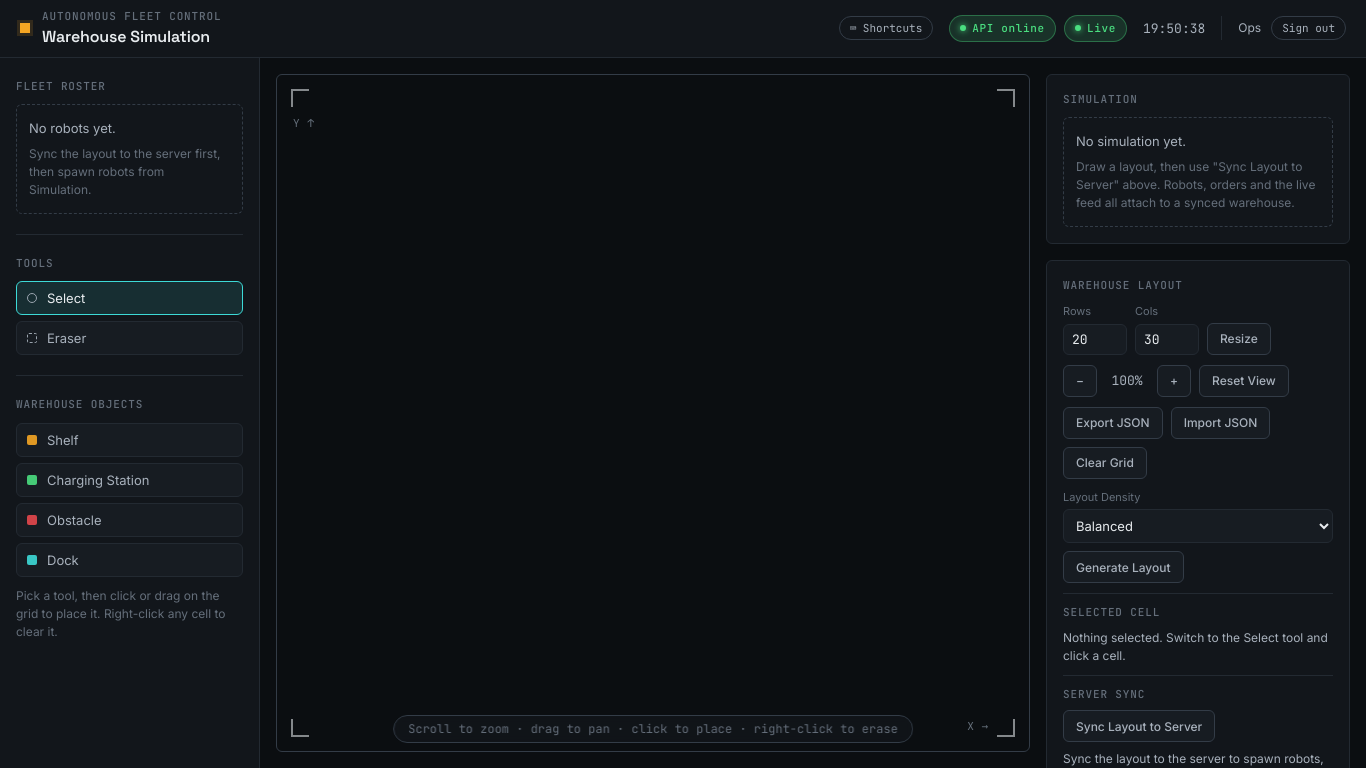
Scenario: socket disconnect and reconnect › rejoins the room on reconnect without any panel having to ask
Click the button "Sync Layout to Server": (1139,726) [1063,710,1215,742]
(page scrolled)
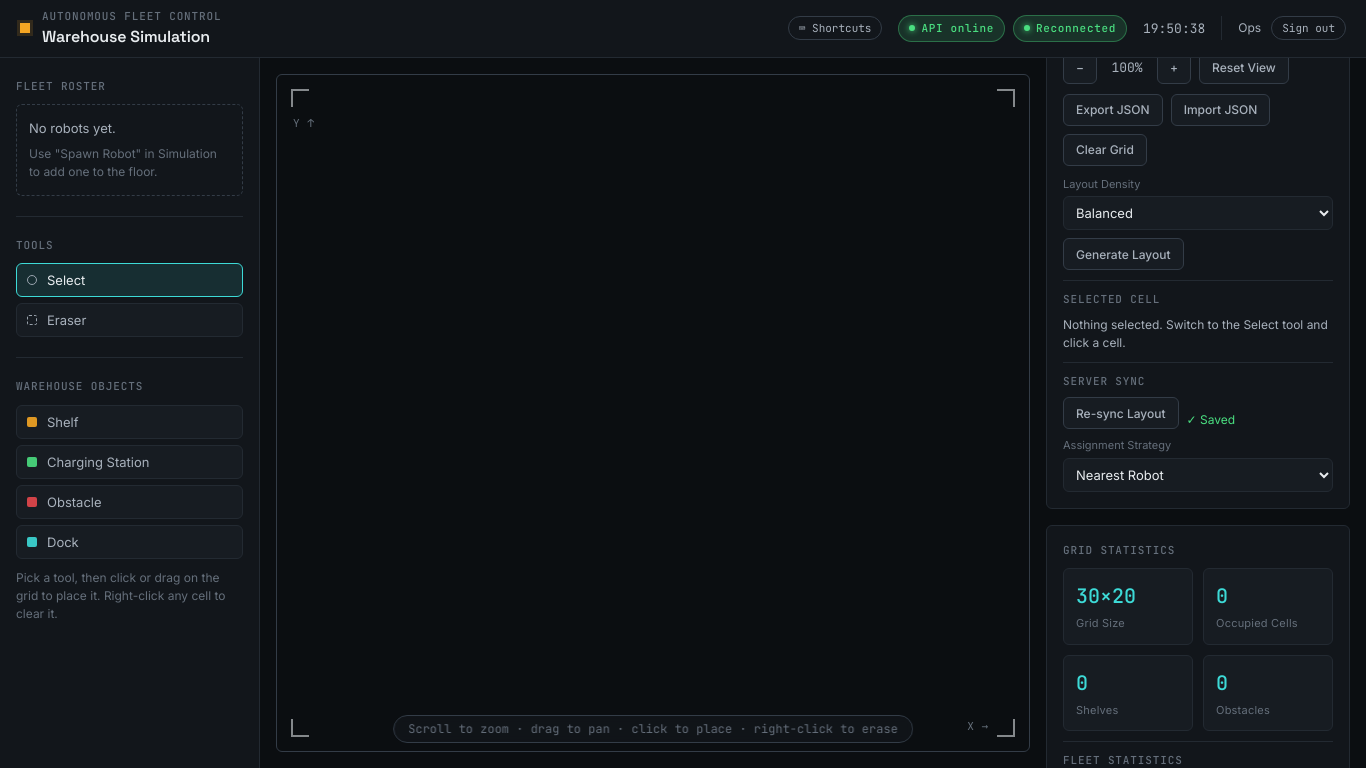
Result: the button "Re-sync Layout" is shown at [1063,397,1179,429]
